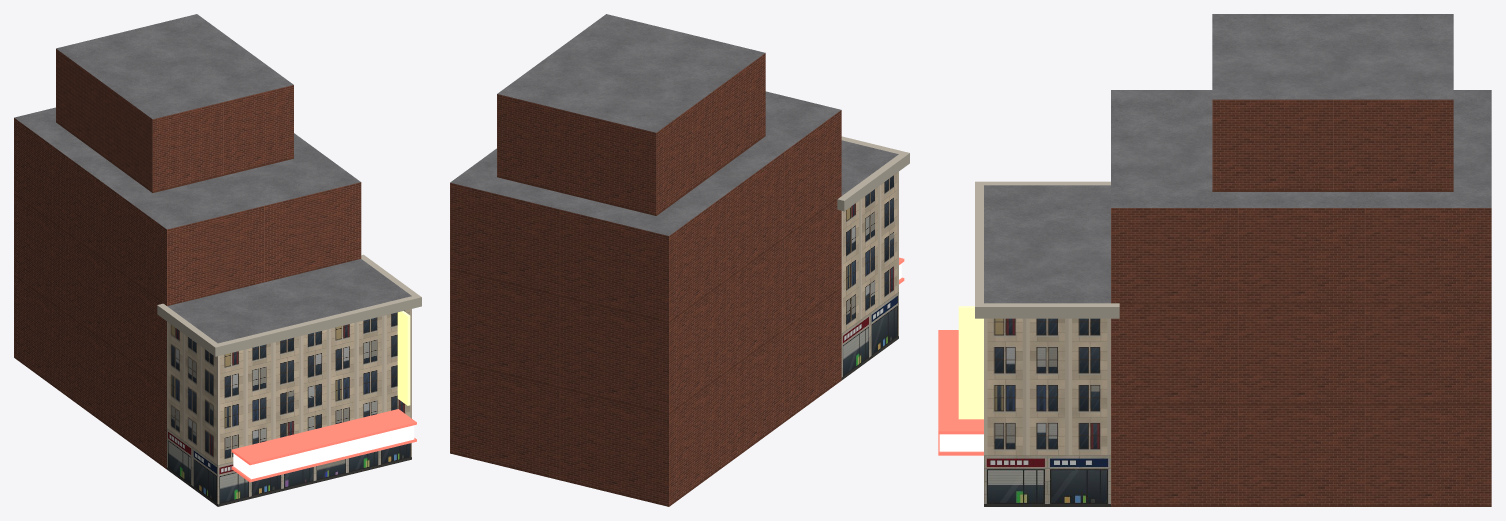
Rendered from 066_theater_marquee.glb.
3 renders of one model, left to right at view 1: azimuth 30°, elevation 25°; view 2: azimuth 150°, elevation 25°; view 3: azimuth 270°, elevation 25°, orthographic. The views are drawn at different scales.
Parts seen in each view (by area): view 1: 066_theater_marquee; view 2: 066_theater_marquee; view 3: 066_theater_marquee.
Boxes of the visible parts, bbox=[...] form: 066_theater_marquee: bbox=[14, 14, 421, 506]; 066_theater_marquee: bbox=[450, 14, 909, 506]; 066_theater_marquee: bbox=[938, 14, 1491, 506].
Bounding box in the file's own units: 23.4 × 34 × 43.6.
Materials: 8 (4 with a texture image).
